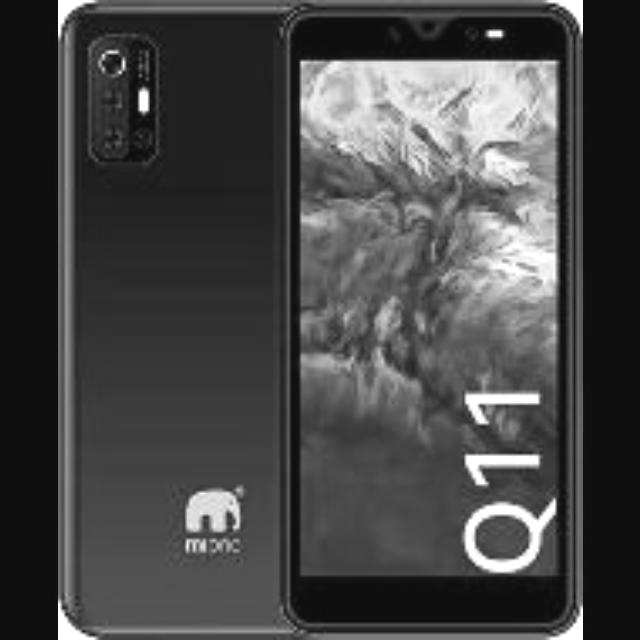fake: (276, 8, 600, 618), (52, 6, 316, 624)
